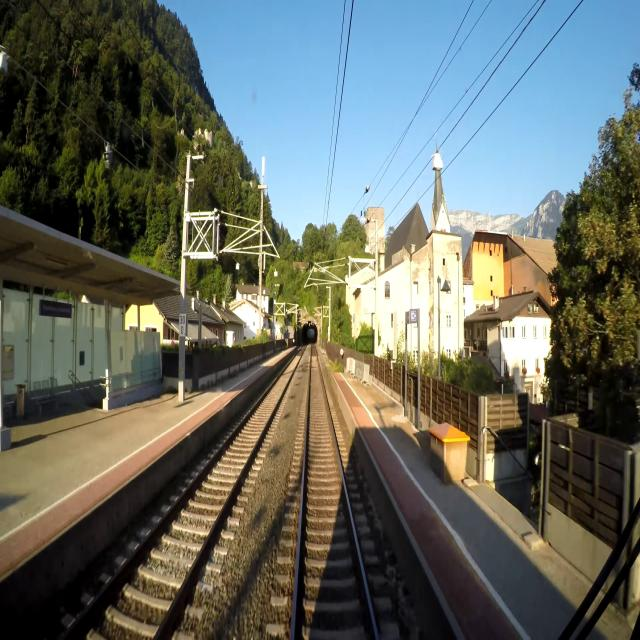rail-track: (66, 351, 301, 639), (295, 344, 375, 639)
